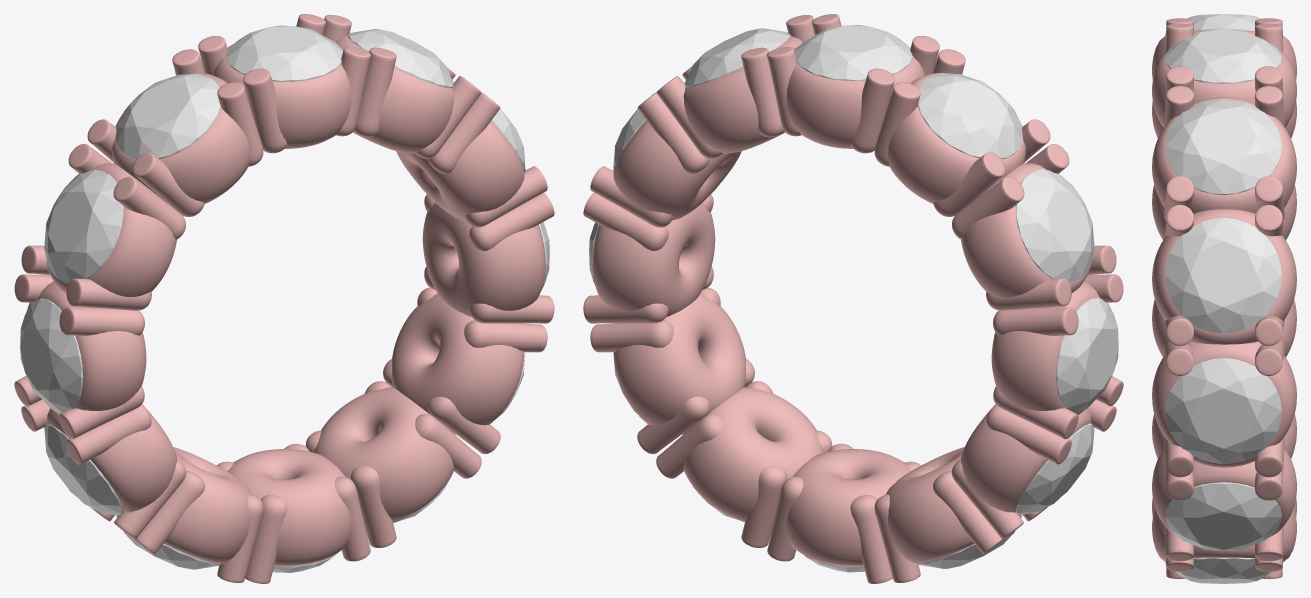
The model's file is stone-wheel-1.glb.
3 renders of one model, left to right at view 1: azimuth 30°, elevation 25°; view 2: azimuth 150°, elevation 25°; view 3: azimuth 270°, elevation 25°, orthographic.
Visible parts, largest first — view 1: hidden halo.001, hidden halo - diamonds.001; view 2: hidden halo.001, hidden halo - diamonds.001; view 3: hidden halo - diamonds.001, hidden halo.001.
Part boxes in pixels (x1,y1,x2,y2): hidden halo.001: [14, 14, 554, 583]; hidden halo - diamonds.001: [20, 25, 549, 572]; hidden halo.001: [583, 14, 1123, 583]; hidden halo - diamonds.001: [589, 25, 1118, 572]; hidden halo - diamonds.001: [1165, 14, 1281, 583]; hidden halo.001: [1152, 18, 1296, 578].
Bounding box in the file's own units: 2.21 × 2.21 × 0.5645.
